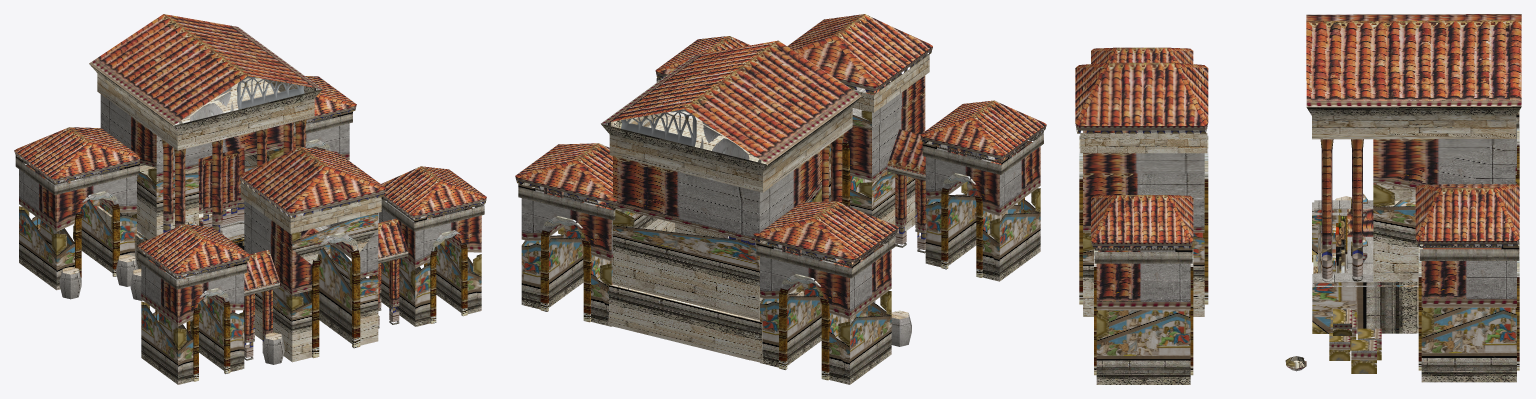
Rendered from rome_civic_center.dae.
The picture shows the model from 3 angles, left to right: view 1: azimuth 30°, elevation 25°; view 2: azimuth 150°, elevation 25°; view 3: azimuth 270°, elevation 25°; orthographic projection. The views are drawn at different scales.
Visible parts, largest first — view 1: port_prop0; view 2: port_prop0; view 3: port_prop0.
Part boxes in pixels (left/top/right/bottom): port_prop0: left=14, top=14, right=486, bottom=384; port_prop0: left=515, top=14, right=1046, bottom=384; port_prop0: left=1075, top=14, right=1521, bottom=384.
Bounding box in the file's own units: 24.64 × 23.95 × 16.04.
